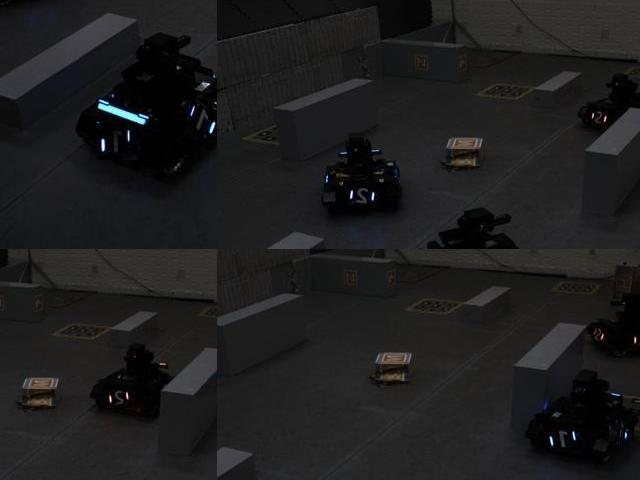armor: (97, 122, 138, 161), (187, 98, 216, 139), (546, 426, 583, 455), (344, 183, 381, 210), (106, 387, 134, 409), (609, 420, 635, 443), (588, 106, 609, 130)
